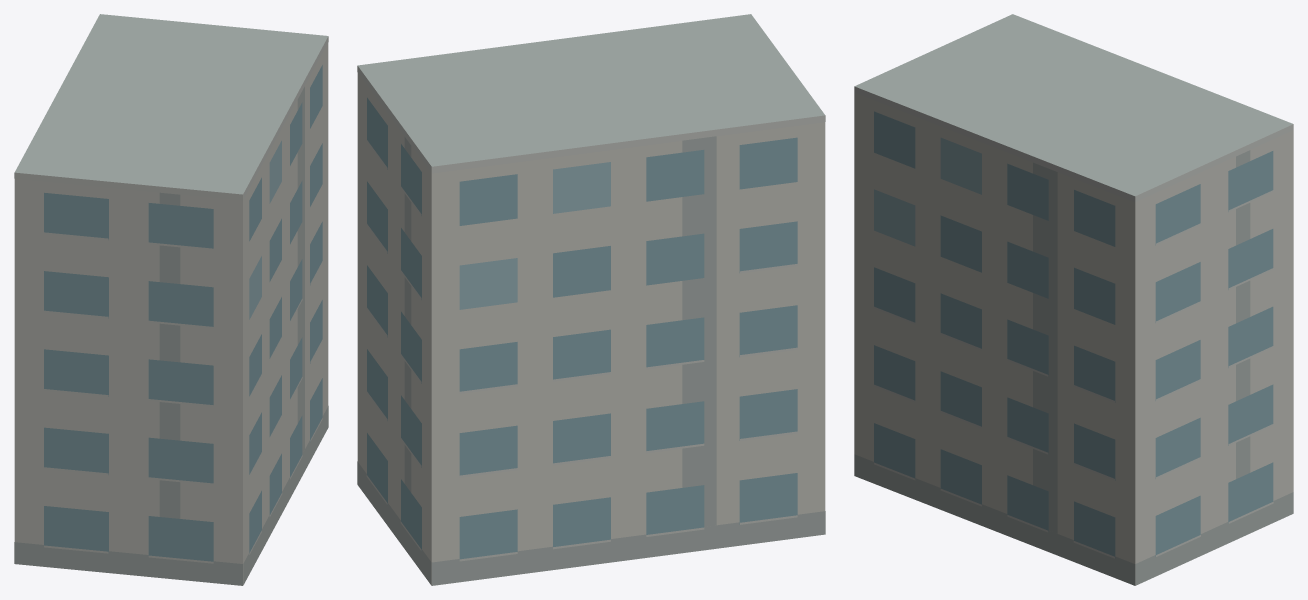
The model's file is residential-109f45df-7133-497e-9bd7-986a7d14534b.glb.
The picture shows the model from 3 angles, left to right: view 1: azimuth 30°, elevation 25°; view 2: azimuth 150°, elevation 25°; view 3: azimuth 270°, elevation 25°; orthographic projection. The views are drawn at different scales.
Parts seen in each view (by area): view 1: residential-109f45df-7133-497e-9bd7-986a7d14534b.tmp; view 2: residential-109f45df-7133-497e-9bd7-986a7d14534b.tmp; view 3: residential-109f45df-7133-497e-9bd7-986a7d14534b.tmp.
Boxes of the visible parts, left/top/right/bottom form: residential-109f45df-7133-497e-9bd7-986a7d14534b.tmp: left=14, top=14, right=328, bottom=585; residential-109f45df-7133-497e-9bd7-986a7d14534b.tmp: left=357, top=14, right=825, bottom=585; residential-109f45df-7133-497e-9bd7-986a7d14534b.tmp: left=854, top=14, right=1293, bottom=585.
Size of the model in its own units: 15.47 by 15.4 by 15.75.
